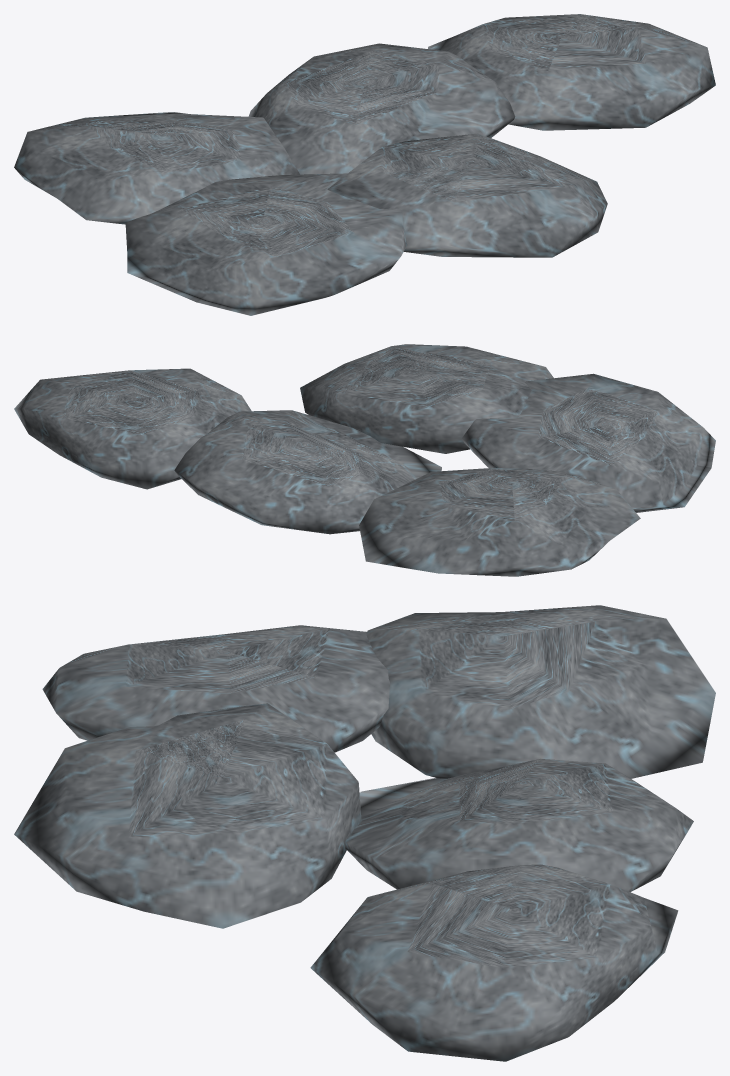
Rendered from rock_tundra_frostheave_a.glb.
3 views of the same model, one above another, from view 1: azimuth 30°, elevation 25°; view 2: azimuth 150°, elevation 25°; view 3: azimuth 270°, elevation 25° (orthographic). The views are drawn at different scales.
Visible parts, largest first — view 1: rock_tundra_frostheave_a; view 2: rock_tundra_frostheave_a; view 3: rock_tundra_frostheave_a.
Part boxes in pixels (<box>): rock_tundra_frostheave_a: <box>14,14,715,315</box>; rock_tundra_frostheave_a: <box>14,344,715,576</box>; rock_tundra_frostheave_a: <box>14,605,715,1061</box>.
Bounding box in the file's own units: 3.55 × 0.292 × 2.45.
1 material, 1 textured.
